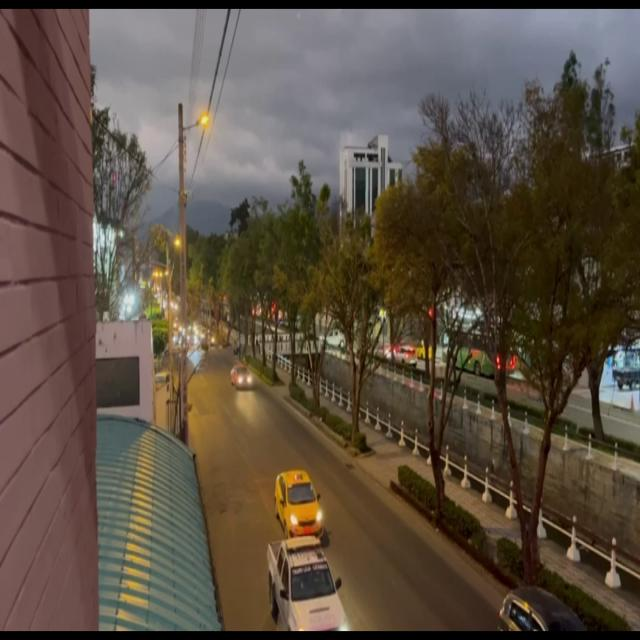CMT: (266, 538, 348, 631)
SED: (500, 587, 586, 631), (273, 468, 327, 536), (232, 363, 254, 393)
